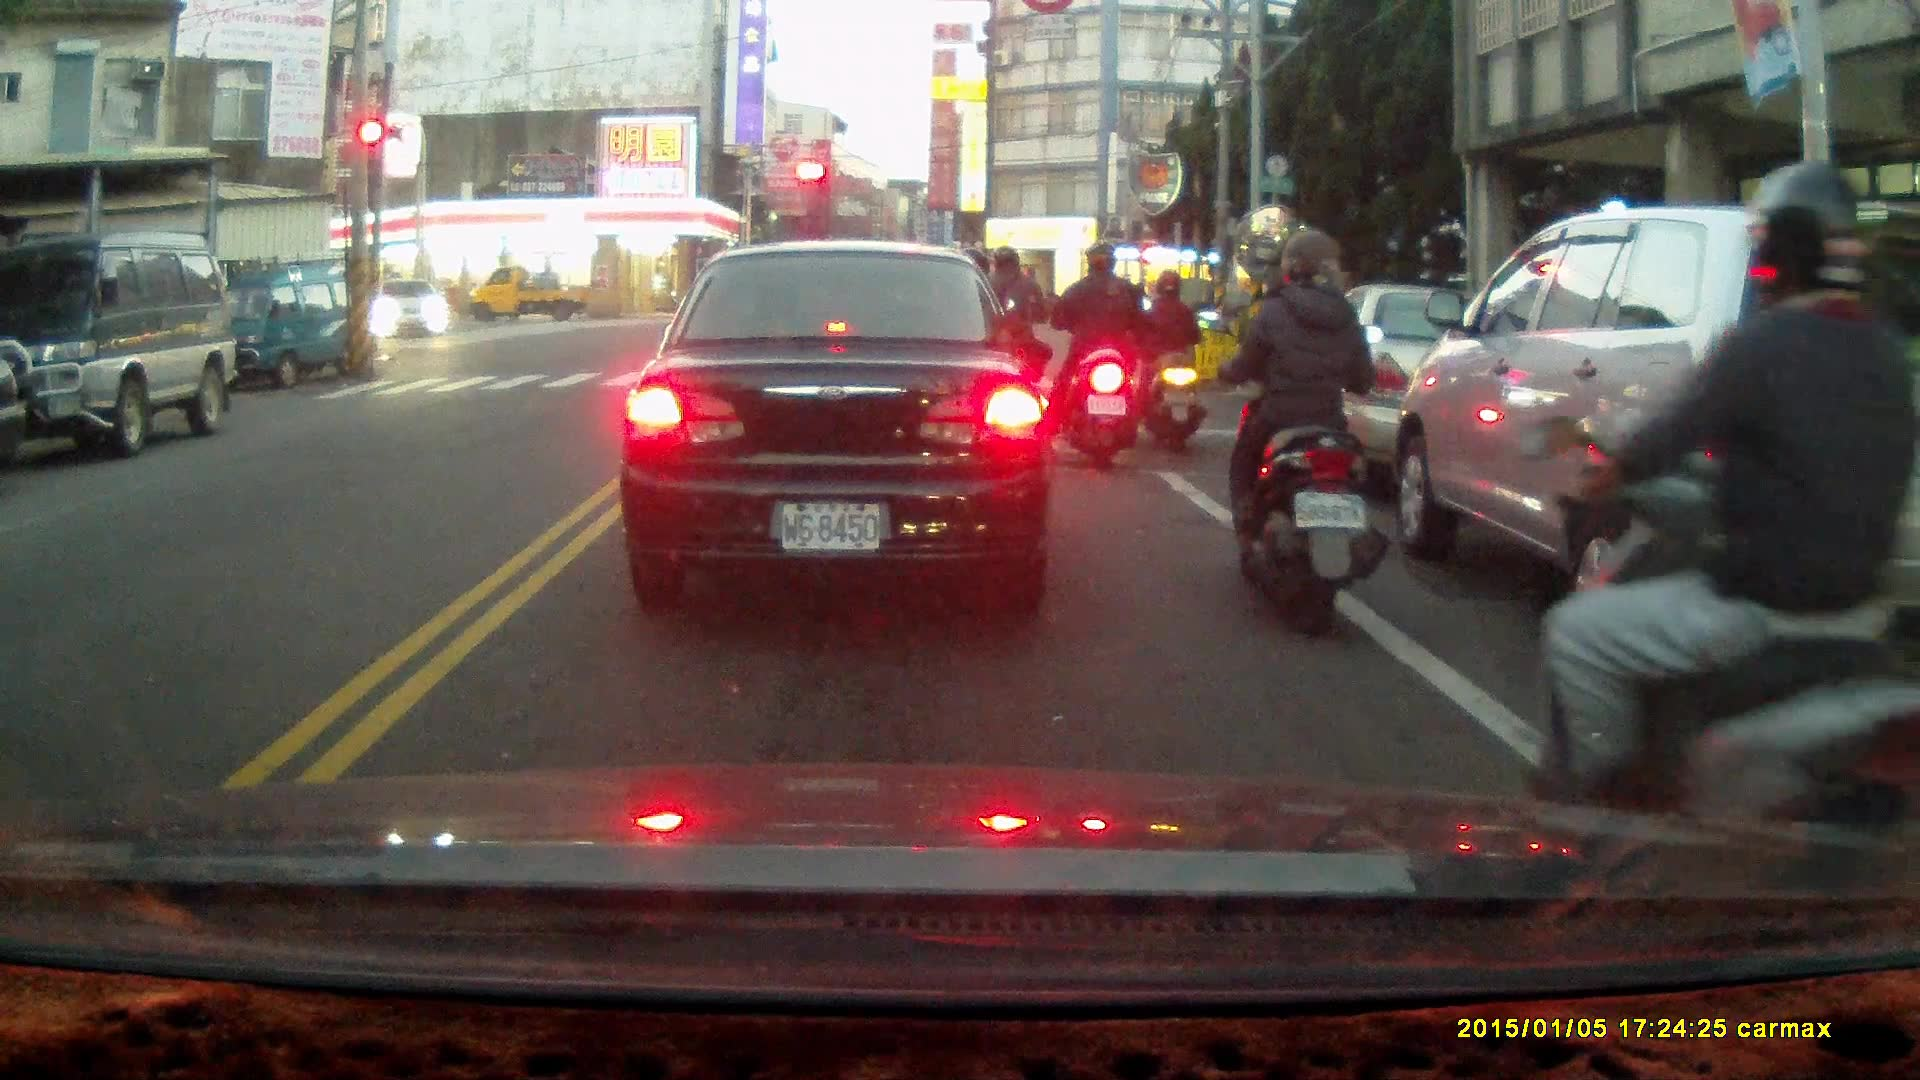rider: (1521, 156, 1920, 875), (1196, 224, 1389, 643), (1048, 243, 1141, 469), (962, 244, 1050, 446), (1134, 269, 1204, 450)
vehicle: (1381, 195, 1920, 685), (617, 243, 1061, 606), (1264, 282, 1570, 493), (1, 234, 239, 458), (194, 255, 381, 394), (461, 265, 594, 327), (372, 277, 451, 343)
